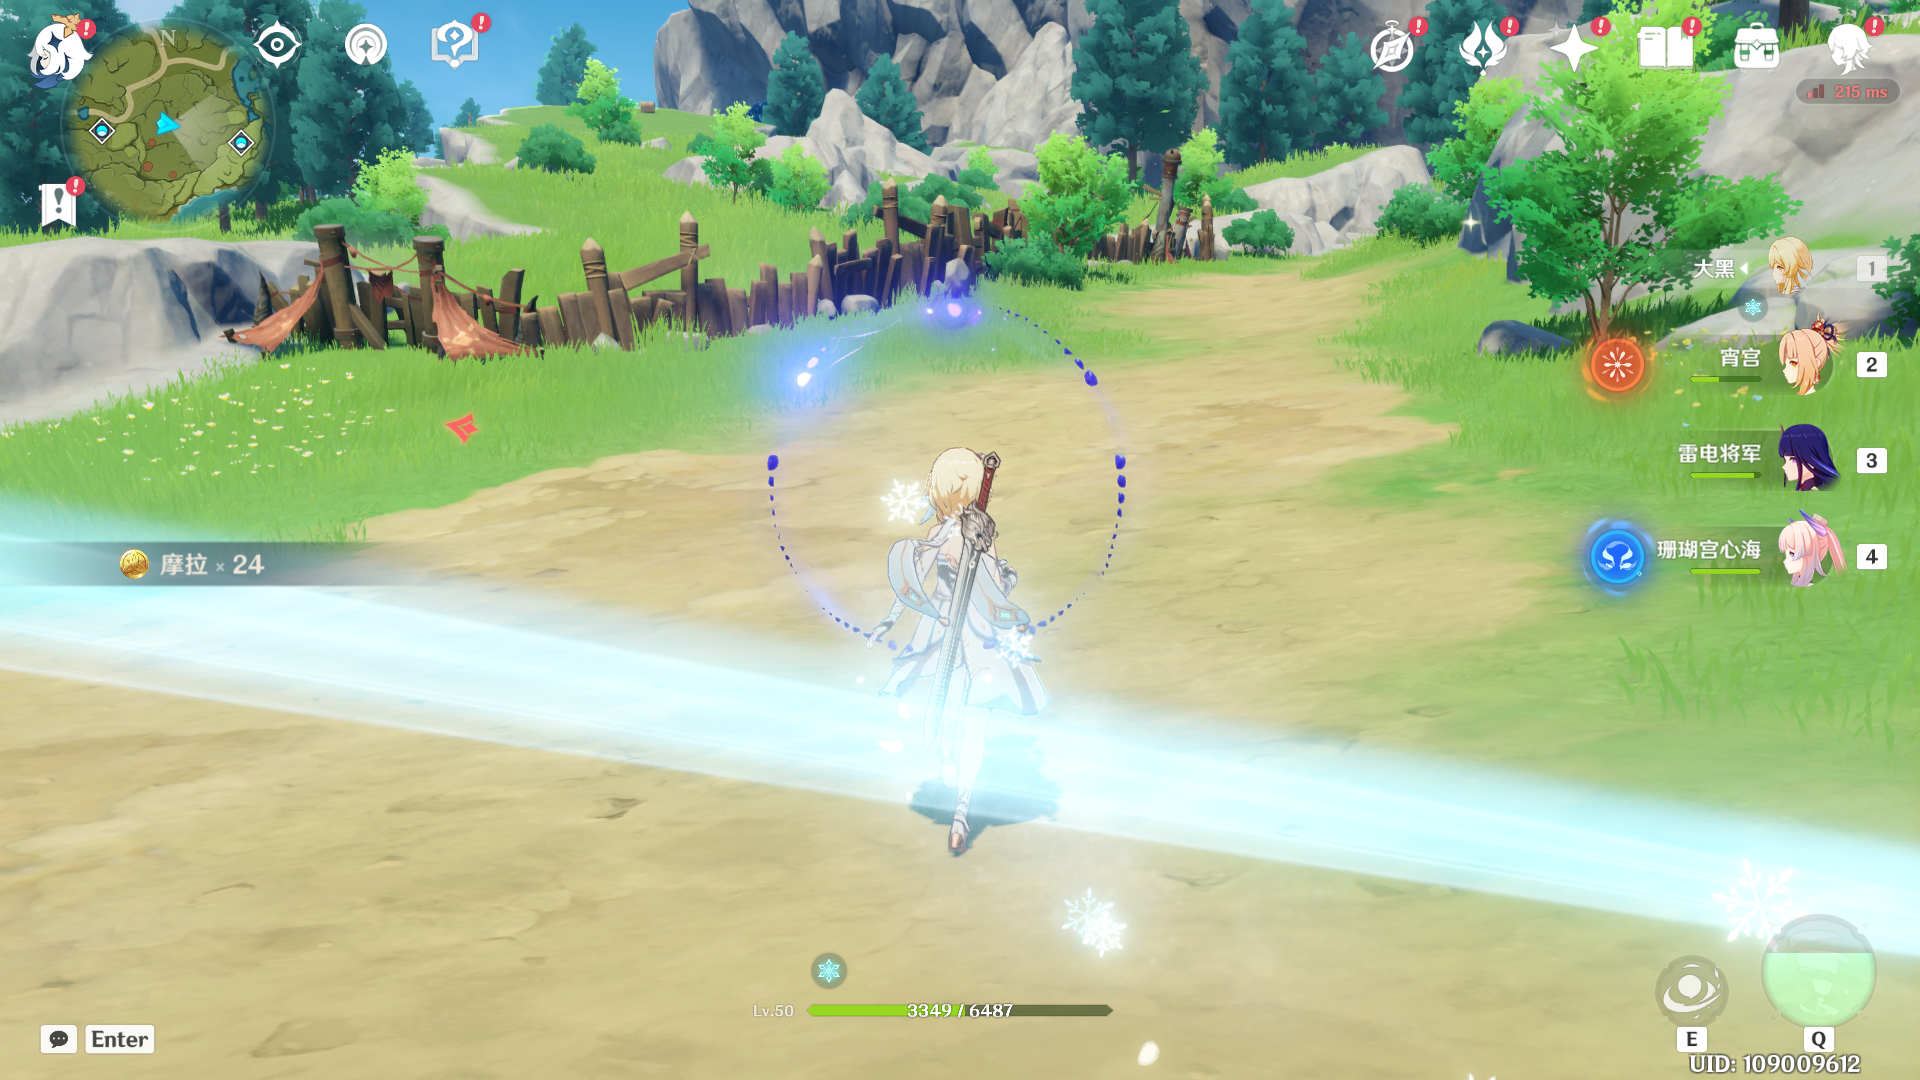character: (812, 407, 1116, 866)
